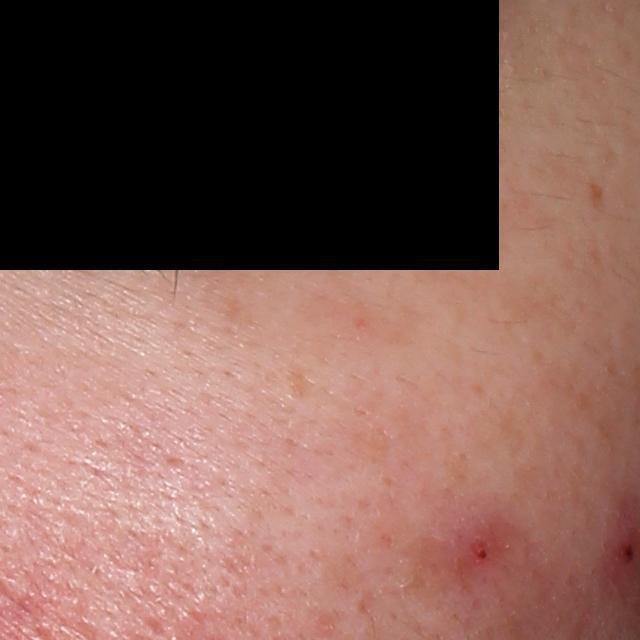melasma: (285, 364, 318, 405), (588, 179, 609, 215)
papule: (462, 523, 499, 569)
